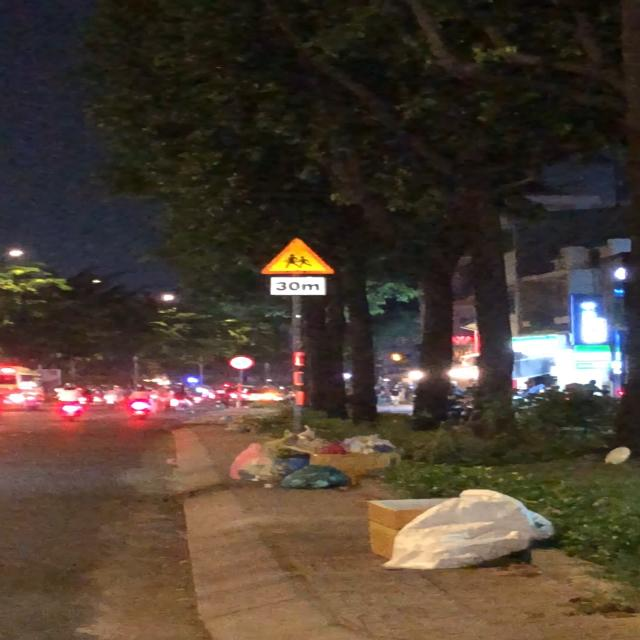Bien bao tre em: (257, 235, 337, 277)
